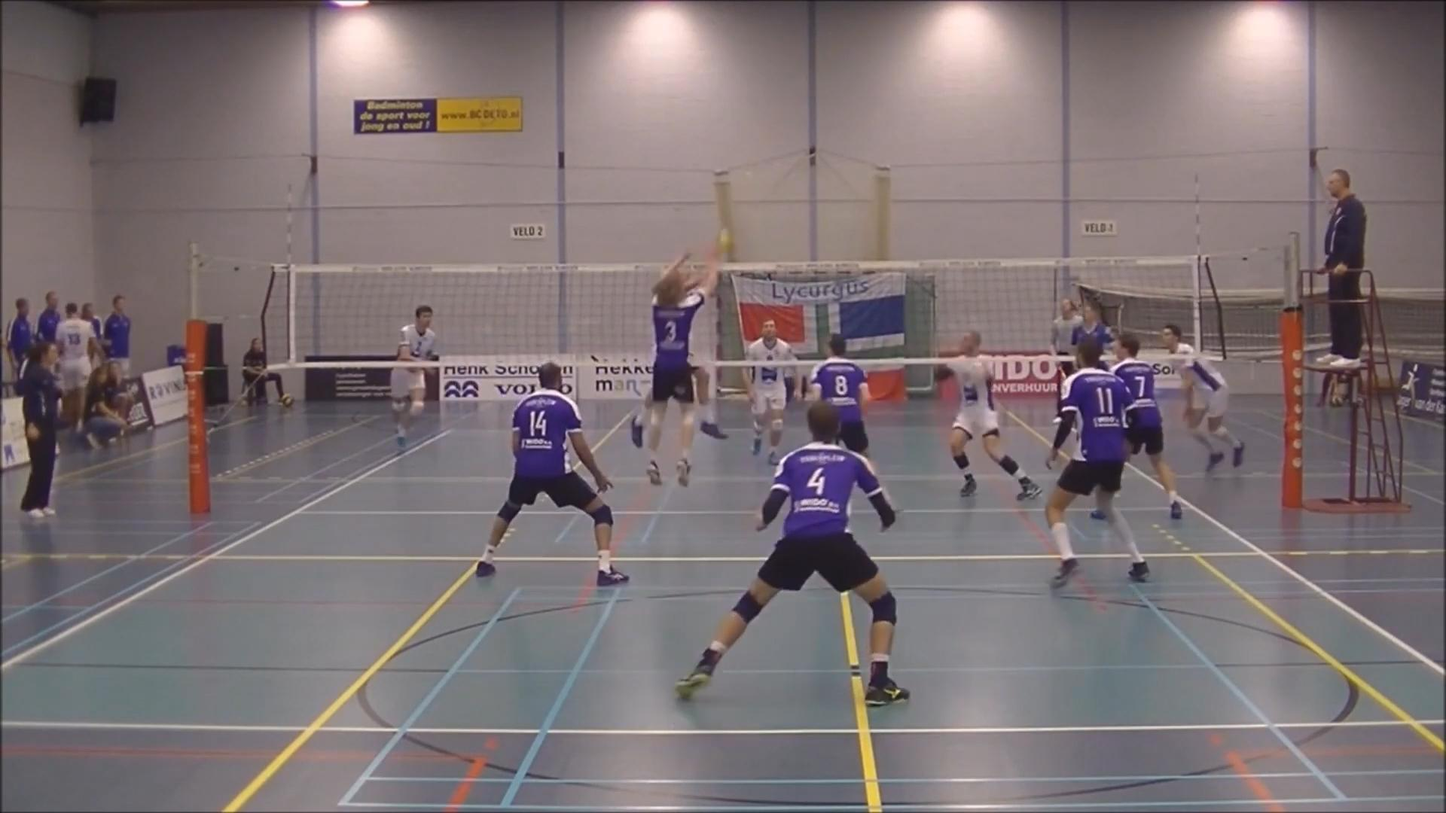Attack: (686, 344, 727, 442)
Block: (631, 239, 734, 484)
Player: (676, 401, 909, 705), (476, 362, 628, 586), (1045, 339, 1149, 587), (935, 330, 1041, 500), (1111, 333, 1182, 519), (1161, 324, 1244, 470), (744, 320, 798, 464), (810, 334, 869, 457), (391, 367, 426, 449), (1071, 300, 1114, 351)
